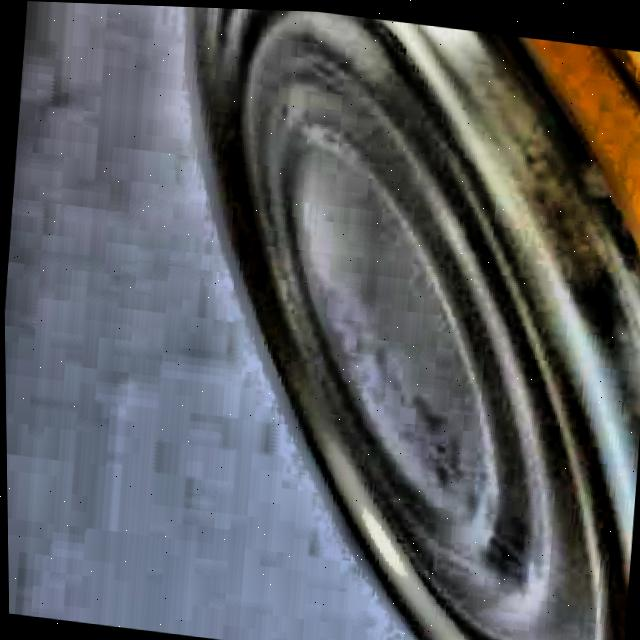metal: (189, 6, 640, 640)
